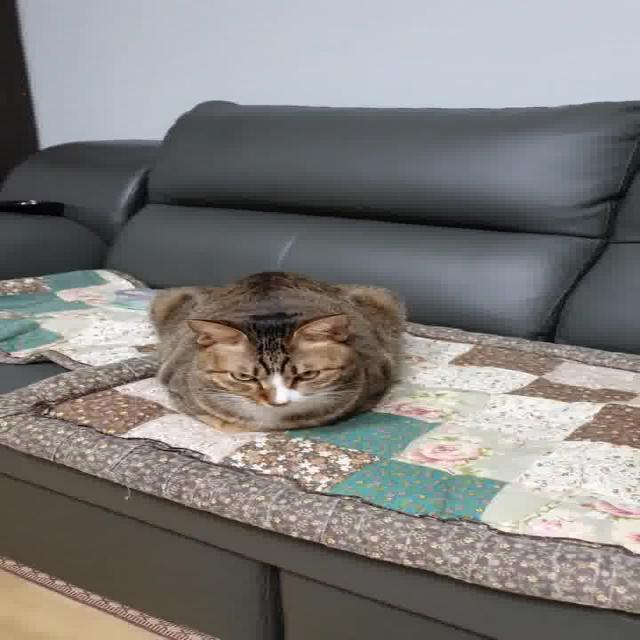cat: (129, 262, 417, 439)
